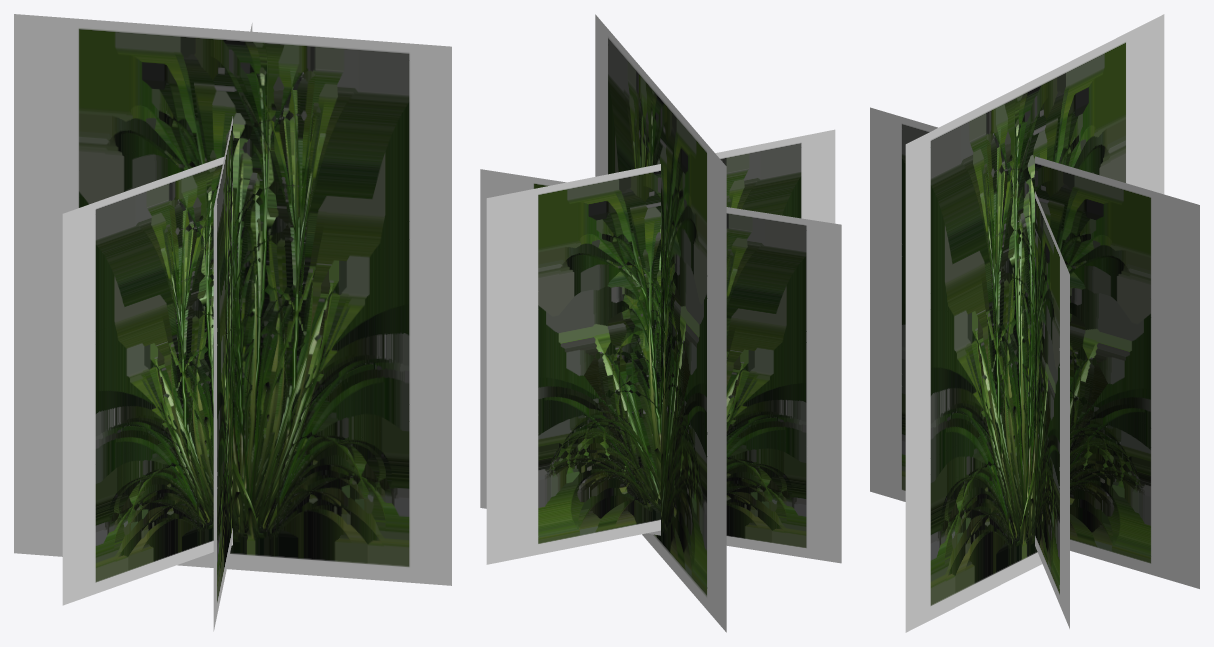
File: Grass_free_download.glb
3 renders of one model, left to right at view 1: azimuth 30°, elevation 25°; view 2: azimuth 150°, elevation 25°; view 3: azimuth 270°, elevation 25°, orthographic. The views are drawn at different scales.
Visible parts, largest first — view 1: Plane007_02 - Default_0, Plane005_02 - Default_0, Plane006_02 - Default_0; view 2: Plane006_02 - Default_0, Plane005_02 - Default_0, Plane007_02 - Default_0; view 3: Plane007_02 - Default_0, Plane006_02 - Default_0, Plane005_02 - Default_0.
Boxes of the visible parts, <box> form: Plane007_02 - Default_0: <box>14,14,451,585</box>; Plane005_02 - Default_0: <box>62,157,232,605</box>; Plane006_02 - Default_0: <box>213,23,252,631</box>; Plane006_02 - Default_0: <box>486,129,835,564</box>; Plane005_02 - Default_0: <box>480,169,841,563</box>; Plane007_02 - Default_0: <box>595,14,726,632</box>; Plane007_02 - Default_0: <box>905,14,1164,632</box>; Plane006_02 - Default_0: <box>870,107,1199,588</box>; Plane005_02 - Default_0: <box>1035,191,1069,628</box>.
Size of the model in its own units: 89.64 by 122 by 74.57.
Materials: 1 (1 with a texture image).
